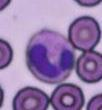N: (26, 30, 76, 84)
